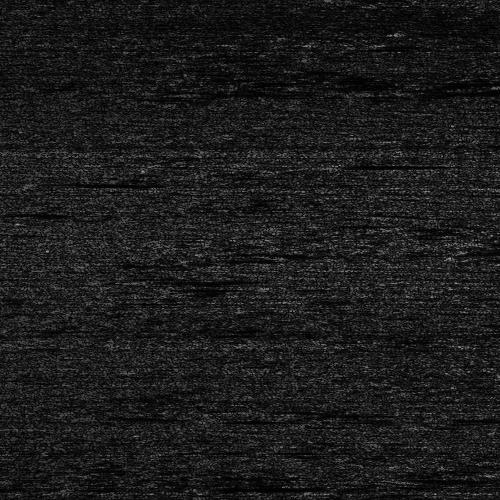rock: (108, 275, 161, 282), (320, 161, 361, 166), (484, 43, 500, 52), (38, 181, 79, 184)
shadow: (135, 275, 260, 282), (341, 161, 458, 166), (59, 181, 156, 184)
